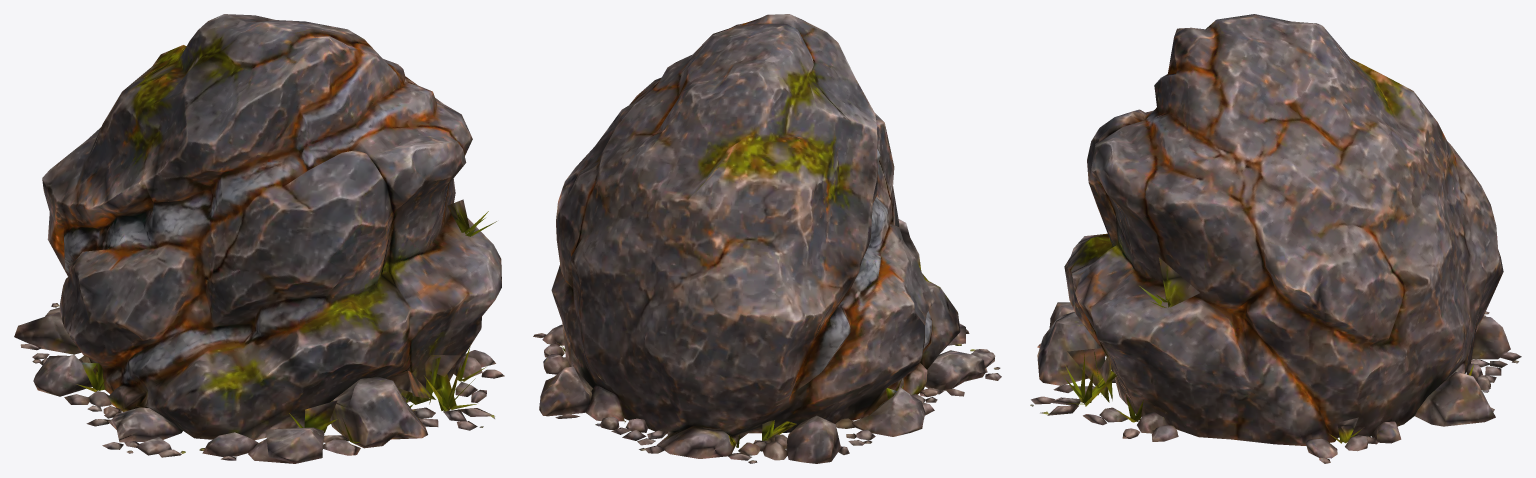
The model's file is eisen.glb.
The picture shows the model from 3 angles, left to right: view 1: azimuth 30°, elevation 25°; view 2: azimuth 150°, elevation 25°; view 3: azimuth 270°, elevation 25°; orthographic projection. The views are drawn at different scales.
Parts seen in each view (by area): view 1: baum; view 2: baum; view 3: baum.
Part boxes in pixels (x1=…): baum: x1=14, y1=14, x2=504, y2=463; baum: x1=533, y1=14, x2=1001, y2=463; baum: x1=1030, y1=14, x2=1521, y2=463.
Bounding box in the file's own units: 1.79 × 1.4 × 1.83.
1 material, 1 textured.
